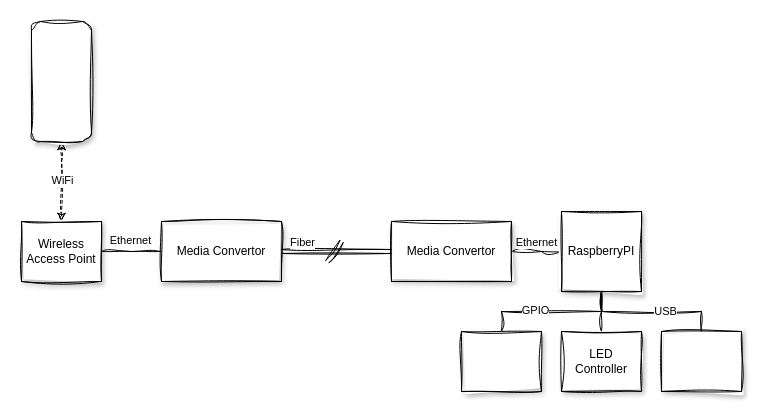
The diagram is 765 pixels wide and 416 high, and some of its shapes have lost their labels. Each missing label, with the centre of its shape:
"Dual Motor Controller" belongs at (x=502, y=362).
"Phone" belongs at (x=62, y=82).
"USB Camera" belongs at (x=702, y=362).
